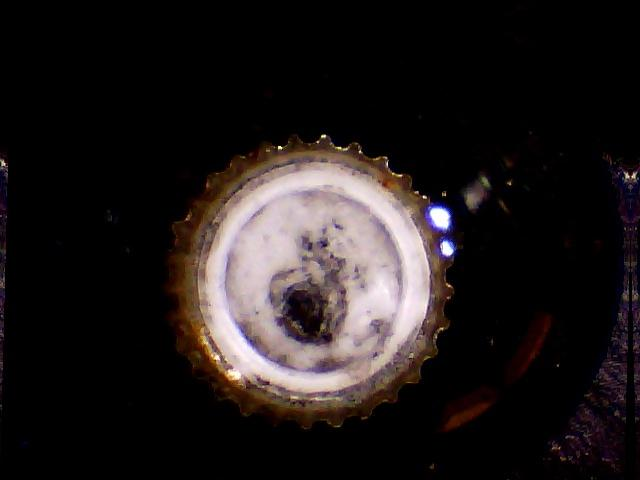capsule: (145, 125, 486, 441)
